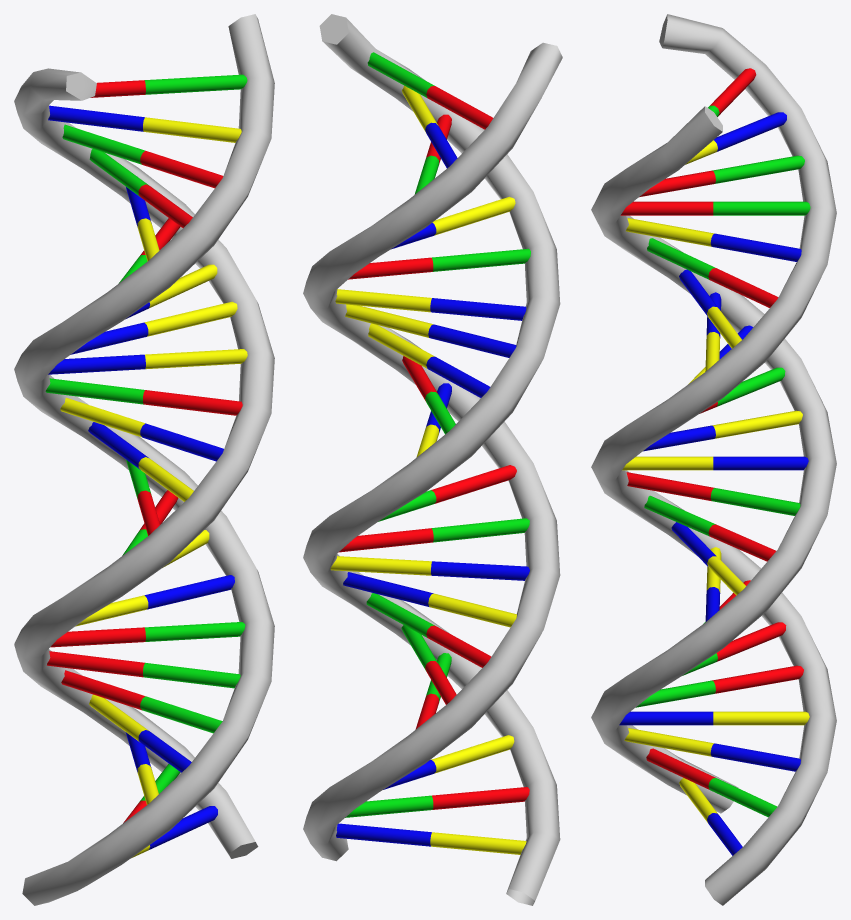
File: Bio-DNA.FBX
3 views of the same model, side by side, from view 1: azimuth 30°, elevation 25°; view 2: azimuth 150°, elevation 25°; view 3: azimuth 270°, elevation 25° (orthographic). The views are drawn at different scales.
Parts seen in each view (by area): view 1: Spring02, Plane01, Cylinder40, Cylinder47, Cylinder08, Cylinder37, Cylinder27, Cylinder38, Cylinder05, Cylinder06, Cylinder28, Cylinder39 (+23 smaller); view 2: Plane01, Spring02, Cylinder12, Cylinder11, Cylinder31, Cylinder13, Cylinder17, Cylinder22, Cylinder21, Cylinder20, Cylinder19, Cylinder09 (+22 smaller); view 3: Plane01, Spring02, Cylinder23, Cylinder02, Cylinder33, Cylinder01, Cylinder24, Cylinder30, Cylinder26, Cylinder34, Cylinder16, Cylinder04 (+24 smaller).
Part boxes in pixels (bbox=[...]): Spring02: bbox=[14, 14, 274, 905]; Plane01: bbox=[14, 68, 274, 858]; Cylinder40: bbox=[145, 349, 247, 369]; Cylinder47: bbox=[144, 74, 247, 94]; Cylinder08: bbox=[145, 622, 245, 641]; Cylinder37: bbox=[143, 390, 242, 415]; Cylinder27: bbox=[143, 117, 241, 142]; Cylinder38: bbox=[45, 378, 144, 404]; Cylinder05: bbox=[143, 662, 240, 688]; Cylinder06: bbox=[47, 651, 144, 677]; Cylinder28: bbox=[48, 105, 144, 131]; Cylinder39: bbox=[48, 354, 145, 374]; Plane01: bbox=[303, 42, 562, 861]; Spring02: bbox=[303, 14, 560, 905]; Cylinder12: bbox=[330, 556, 431, 575]; Cylinder11: bbox=[431, 561, 529, 580]; Cylinder31: bbox=[432, 248, 530, 271]; Cylinder13: bbox=[432, 518, 529, 542]; Cylinder17: bbox=[432, 787, 529, 809]; Cylinder22: bbox=[335, 289, 431, 312]; Cylinder21: bbox=[430, 298, 526, 320]; Cylinder20: bbox=[336, 823, 431, 846]; Cylinder19: bbox=[430, 832, 526, 854]; Cylinder09: bbox=[428, 593, 516, 627]; Plane01: bbox=[591, 14, 836, 905]; Spring02: bbox=[591, 106, 836, 813]; Cylinder23: bbox=[713, 201, 810, 215]; Cylinder02: bbox=[713, 711, 809, 725]; Cylinder33: bbox=[713, 456, 808, 470]; Cylinder01: bbox=[619, 711, 713, 725]; Cylinder24: bbox=[620, 201, 713, 215]; Cylinder30: bbox=[710, 233, 801, 261]; Cylinder26: bbox=[712, 155, 804, 183]; Cylinder34: bbox=[622, 456, 713, 470]; Cylinder16: bbox=[710, 743, 800, 771]; Cylinder04: bbox=[712, 665, 803, 693].
Size of the model in its own units: 14.83 by 53.01 by 14.83.
